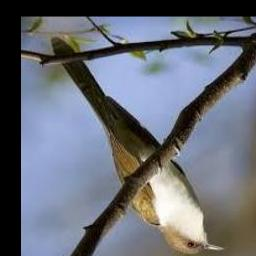Cuckoo: (50, 39, 226, 254)
